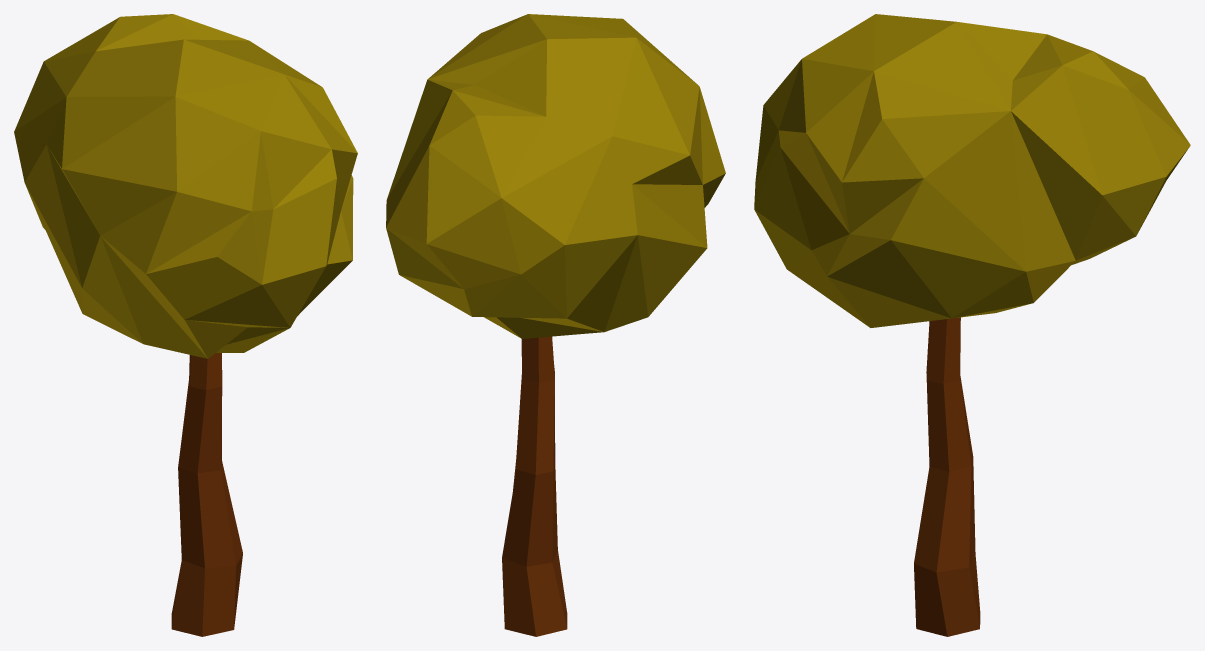
The model's file is Tree_1_Yellow.fbx.
3 views of the same model, side by side, from view 1: azimuth 30°, elevation 25°; view 2: azimuth 150°, elevation 25°; view 3: azimuth 270°, elevation 25° (orthographic).
Parts seen in each view (by area): view 1: pCube2, pCylinder3; view 2: pCube2, pCylinder3; view 3: pCube2, pCylinder3.
Boxes of the visible parts, x1,y1,x2,y2 form: pCube2: [14, 14, 357, 358]; pCylinder3: [171, 353, 242, 636]; pCube2: [386, 14, 725, 338]; pCylinder3: [502, 336, 567, 636]; pCube2: [754, 14, 1190, 327]; pCylinder3: [914, 317, 980, 636].
Size of the model in its own units: 364 by 755 by 505.
